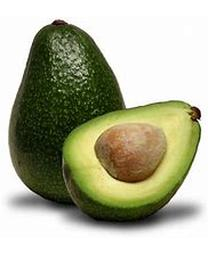avocado: (7, 20, 133, 207), (60, 99, 202, 225)
